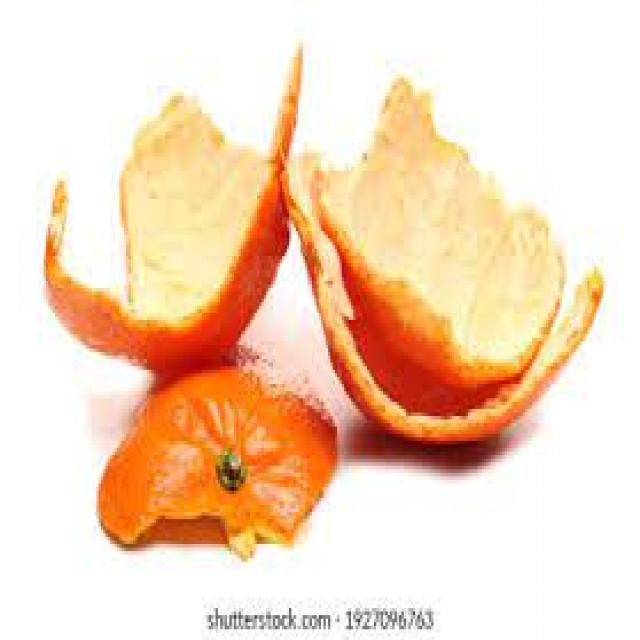Cascara de naranja: (284, 73, 596, 446), (43, 19, 305, 374), (97, 347, 341, 565)
